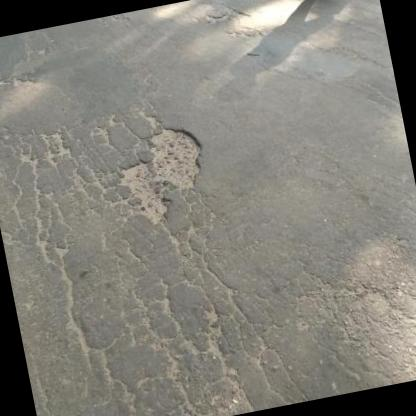pothole: (106, 116, 215, 232)
